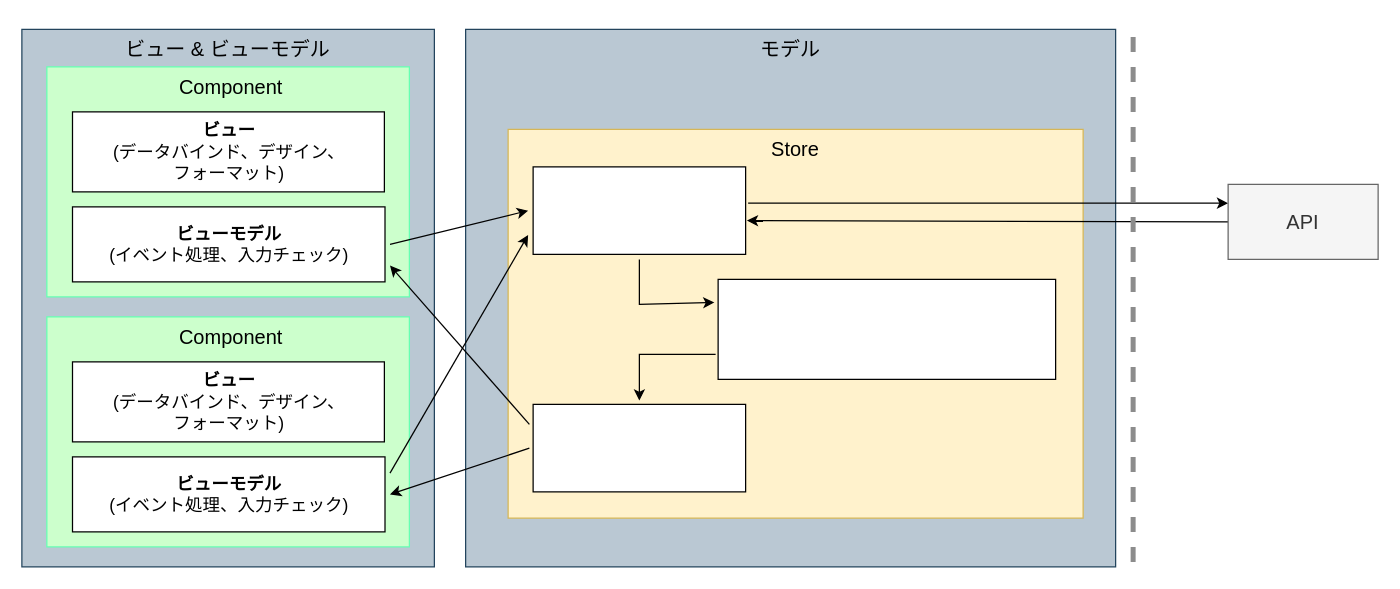
The diagram is 1400 pixels wide and 589 high, and some of its shapes have lost their labels. The shapes that lost their labels are listed below. From the top down, each one's centre as x and y in pixels, then its label:
point (639, 210): Action (Web API呼出、 Stateの加工・操作)
point (886, 328): State (クライアントアプリケーションの 状態を保持)
point (639, 447): Getter (Stateを返す)
